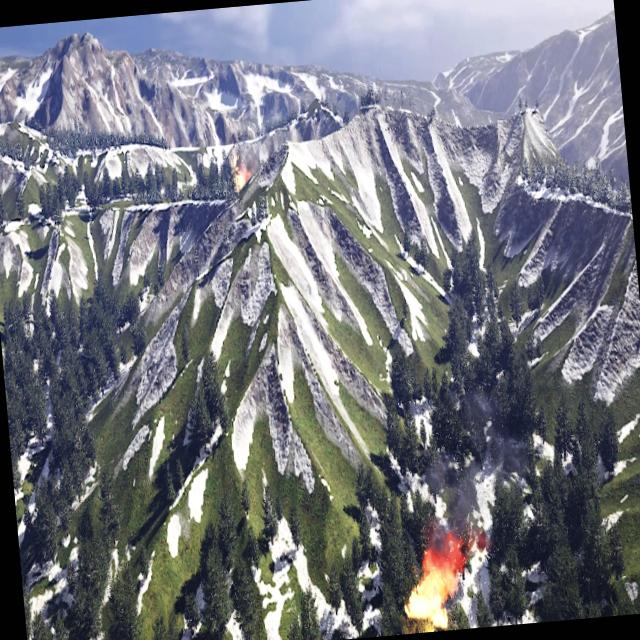fire: (401, 566, 453, 634), (232, 164, 250, 190)
smoke: (418, 516, 491, 580), (233, 138, 272, 174)
